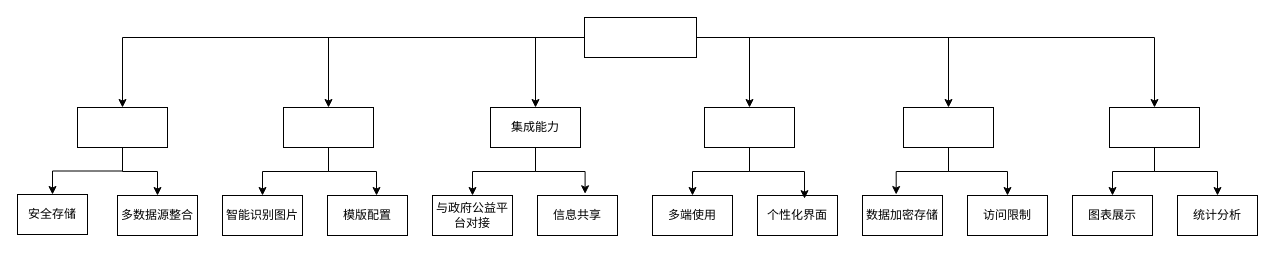
The diagram is 1275 pixels wide and 253 high, and some of its shapes have lost their labels. The shapes that lost their labels are listed below. From the top down, each one's centre as x and y in pixels, then its label:
At point 640,37: "博爱公益服务家园".
At point 122,127: "数据管理".
At point 328,127: "智能功能".
At point 749,127: "用户体验".
At point 948,127: "安全机制".
At point 1154,127: "数据展示".
